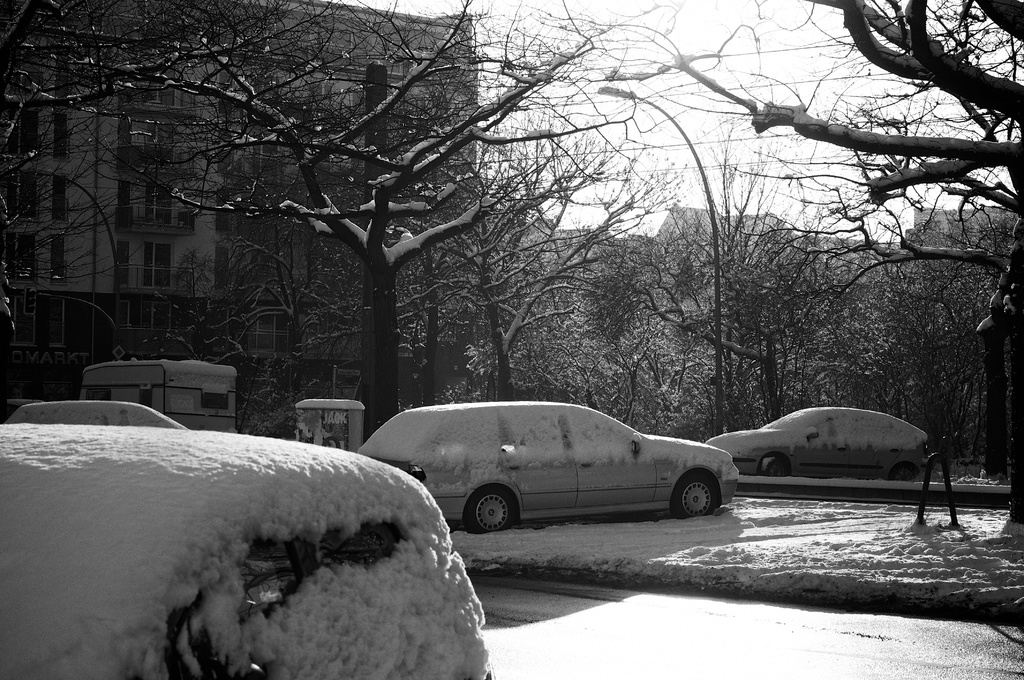cars: (0, 418, 499, 679), (355, 404, 752, 542), (706, 403, 931, 477), (20, 400, 183, 430)
